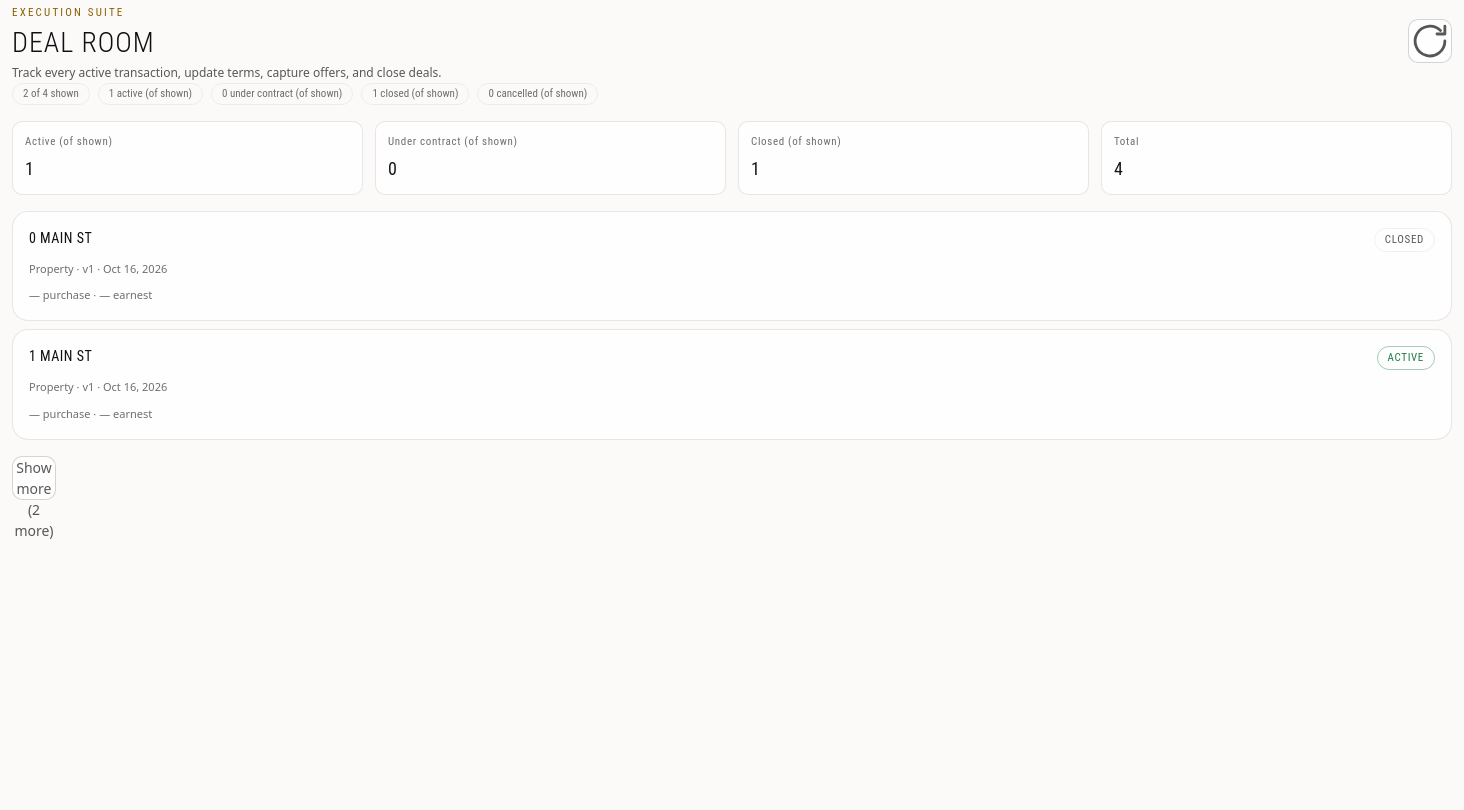
it: Deal room paging › a partial list says "N of total" and loads the next page by cursor
Expected: the text "2 of 4 shown" is shown, [12,83,90,105]
Expected: the text "1 active (of shown)" is shown, [98,83,203,105]
Click the button "Show more (2 more)" at coordinates (34, 478), box [12,456,56,500]
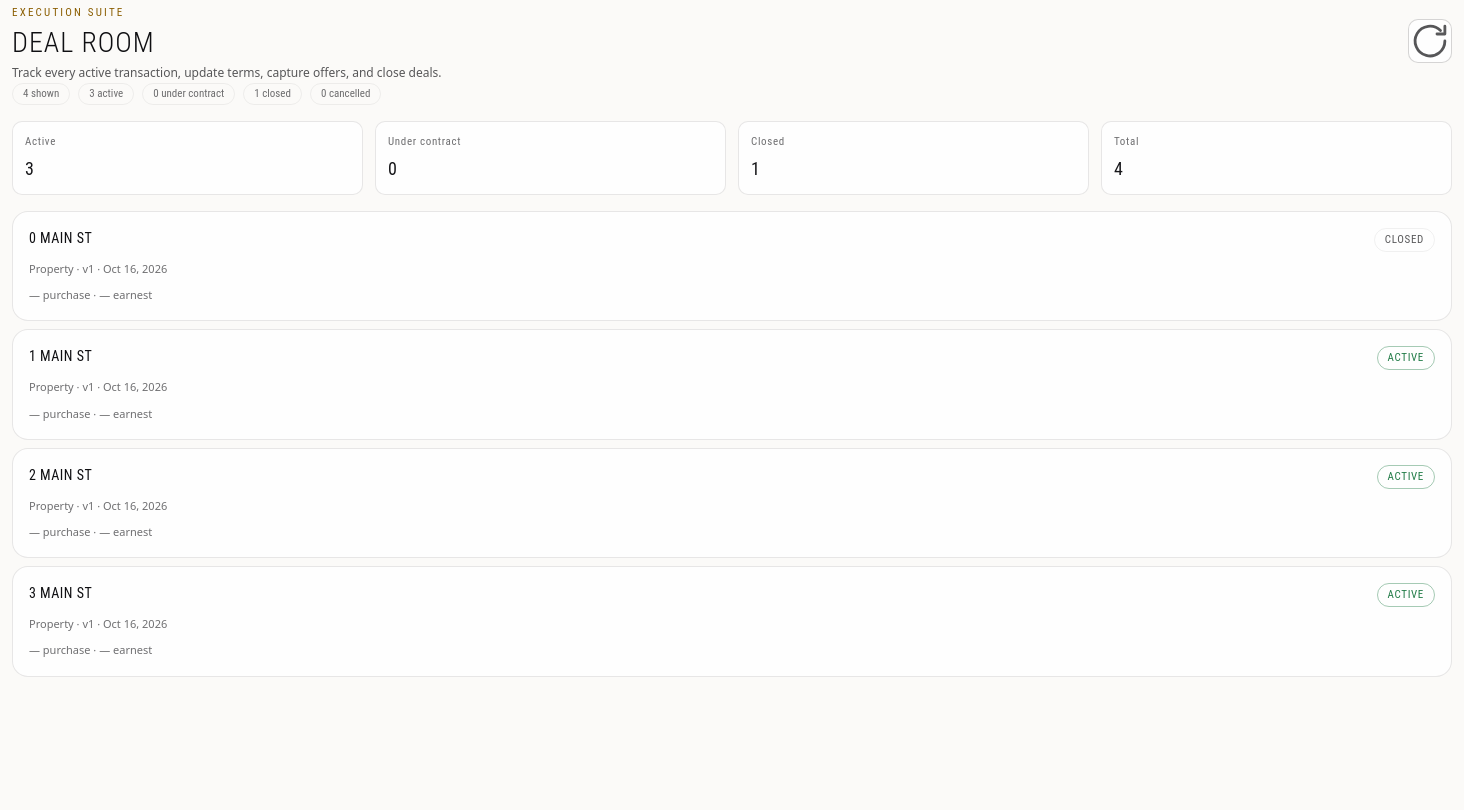
Expected: the text "4 shown" is shown, [12,83,70,105]
Expected: the button "Show more" is gone
Expected: the text "3 active" is shown, [78,83,134,105]
